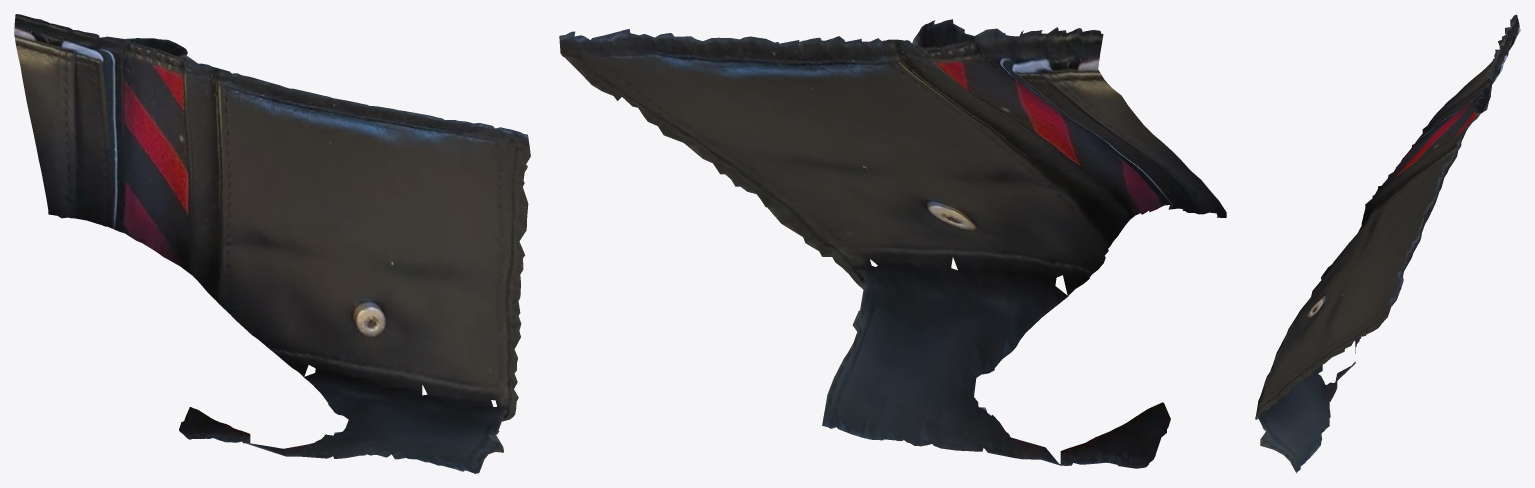
File: observed-surface.glb
3 views of the same model, side by side, from view 1: azimuth 30°, elevation 25°; view 2: azimuth 150°, elevation 25°; view 3: azimuth 270°, elevation 25° (orthographic). The views are drawn at different scales.
Visible parts, largest first — view 1: geometry_0; view 2: geometry_0; view 3: geometry_0.
Boxes of the visible parts, left/top/right/bottom form: geometry_0: left=14, top=14, right=530, bottom=473; geometry_0: left=559, top=19, right=1226, bottom=468; geometry_0: left=1255, top=14, right=1520, bottom=473.
Size of the model in its own units: 0.5751 by 0.5243 by 0.3733.
Materials: 1 (1 with a texture image).
